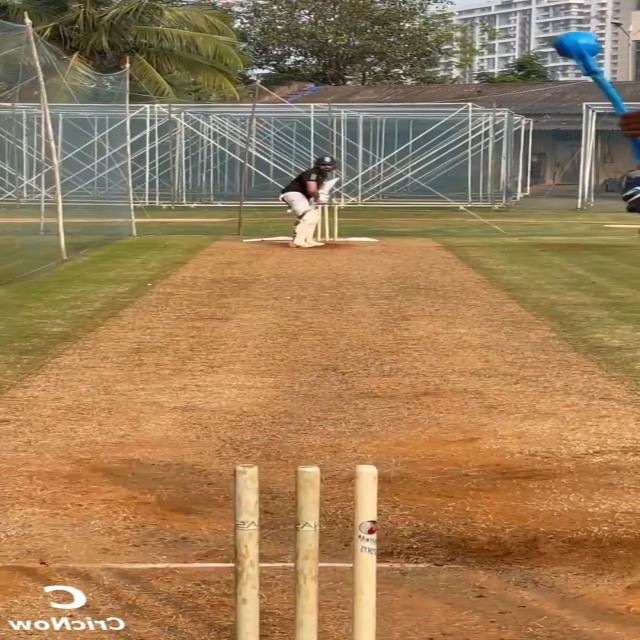stump: (231, 461, 378, 640), (314, 204, 341, 244)
